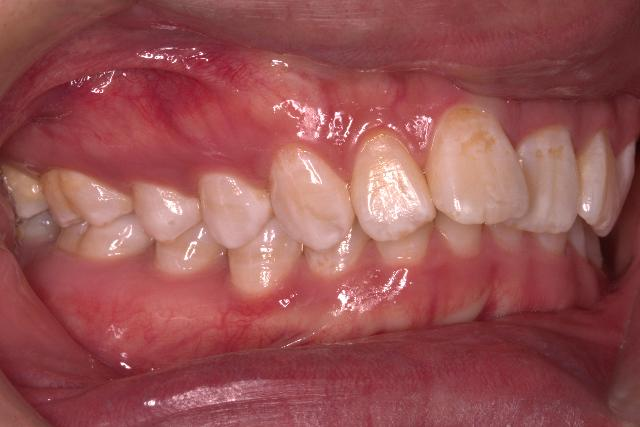canine class II 1/2: (224, 132, 374, 306)
molar class II 1/4: (39, 158, 154, 266)
